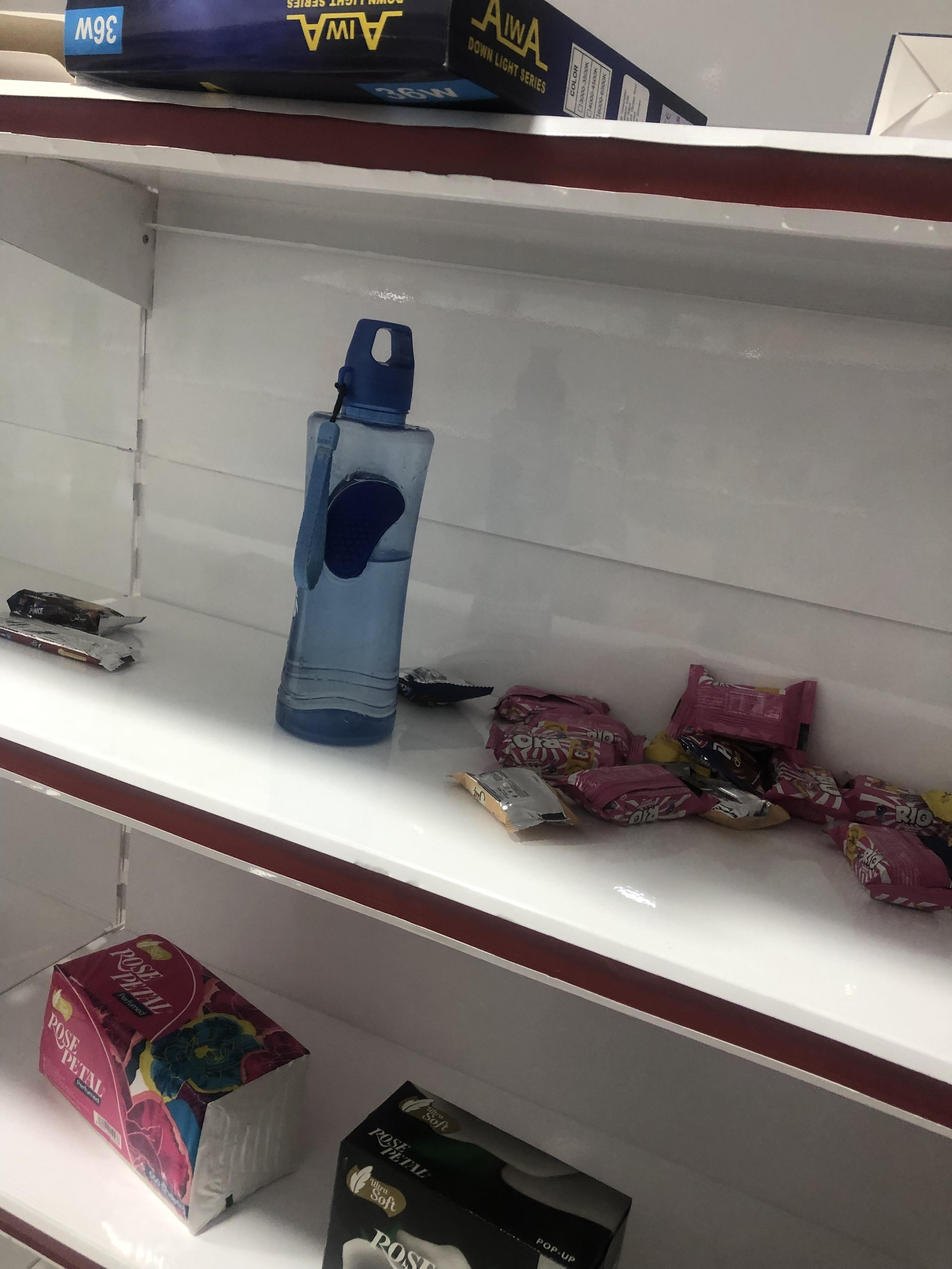gym bottle: (269, 303, 437, 751)
